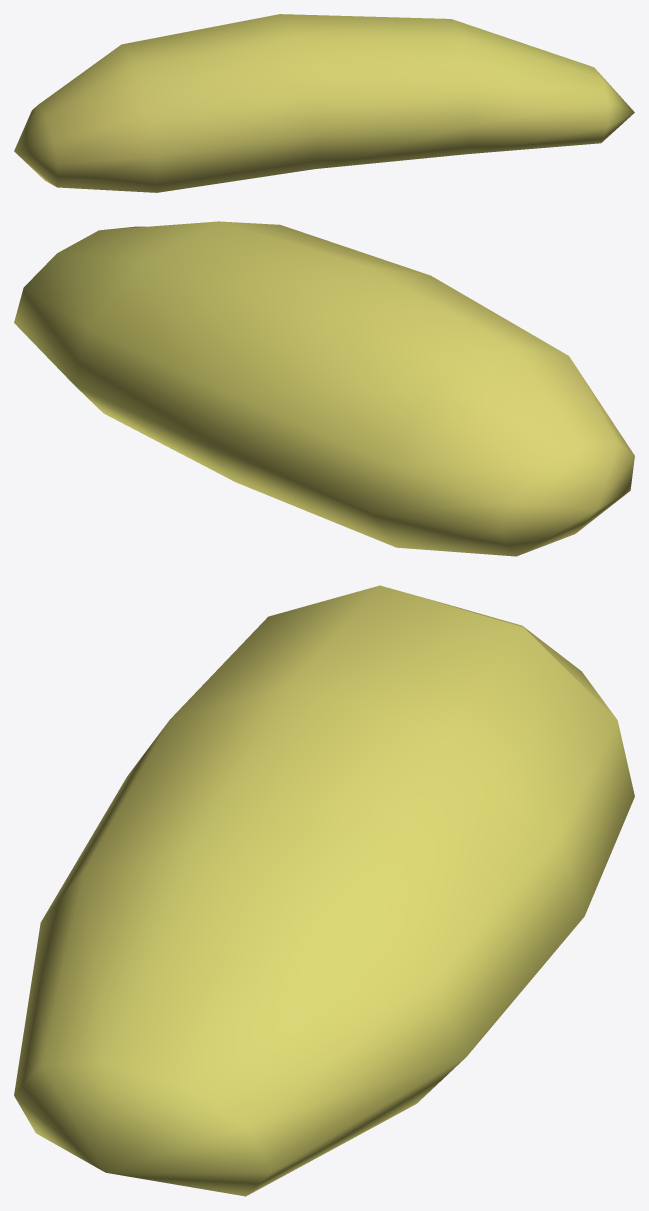
The model's file is PC_Woman_Eyebrow004_L.glb.
3 views of the same model, one above another, from view 1: azimuth 30°, elevation 25°; view 2: azimuth 150°, elevation 25°; view 3: azimuth 270°, elevation 25° (orthographic). The views are drawn at different scales.
Visible parts, largest first — view 1: PC_Woman_Eyebrow004_L_mesh; view 2: PC_Woman_Eyebrow004_L_mesh; view 3: PC_Woman_Eyebrow004_L_mesh.
Boxes of the visible parts, <box> form: PC_Woman_Eyebrow004_L_mesh: <box>14,14,634,192</box>; PC_Woman_Eyebrow004_L_mesh: <box>14,221,634,556</box>; PC_Woman_Eyebrow004_L_mesh: <box>14,585,634,1196</box>.
Bounding box in the file's own units: 0.1487 × 0.0377 × 0.08.
1 material, 1 textured.
